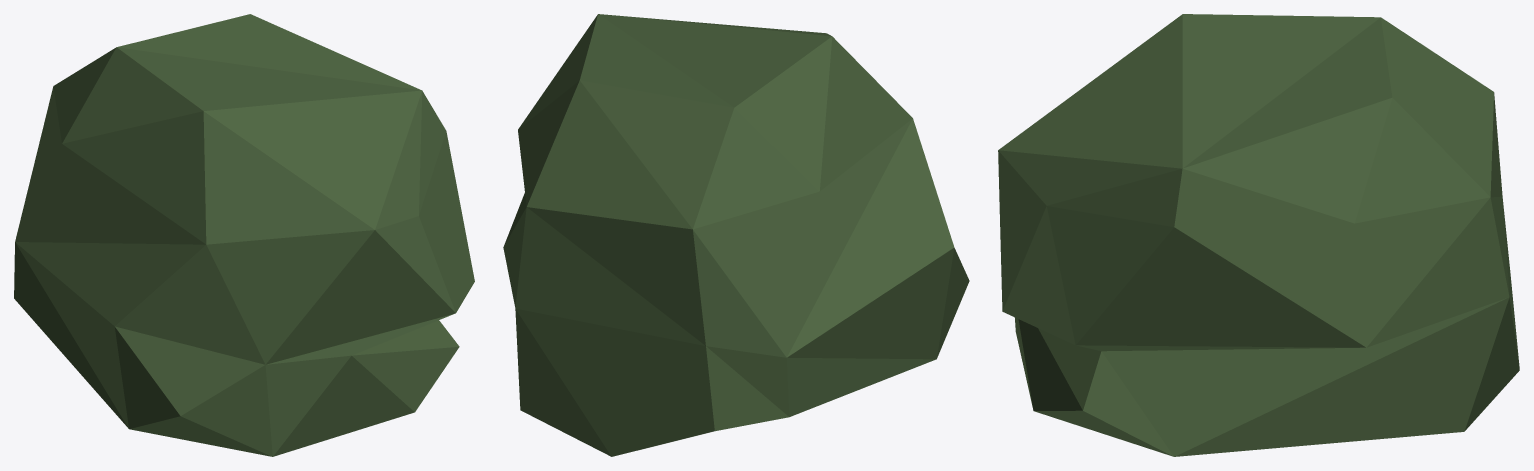
Rendered from qn_bush_a.glb.
3 views of the same model, side by side, from view 1: azimuth 30°, elevation 25°; view 2: azimuth 150°, elevation 25°; view 3: azimuth 270°, elevation 25° (orthographic). The views are drawn at different scales.
Parts seen in each view (by area): view 1: qn_bush_a; view 2: qn_bush_a; view 3: qn_bush_a.
Part boxes in pixels (bbox=[...]): qn_bush_a: bbox=[14, 14, 474, 456]; qn_bush_a: bbox=[503, 14, 969, 456]; qn_bush_a: bbox=[998, 14, 1519, 456].
Bounding box in the file's own units: 1.33 × 1.1 × 1.59.
